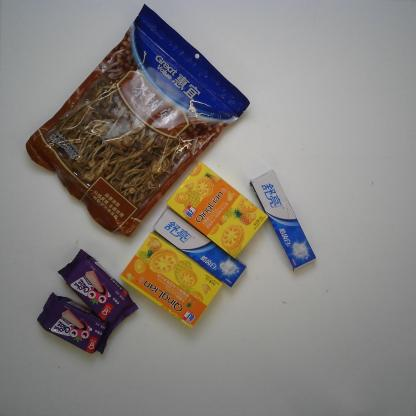Dessert: (119, 228, 225, 335), (166, 159, 270, 265), (53, 248, 139, 331), (34, 286, 112, 360)
Dried Food: (23, 2, 252, 240)
Personal Hygiene: (152, 206, 246, 290), (248, 166, 318, 270)
